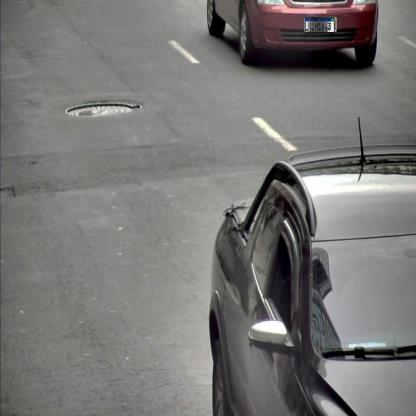PlacaM: (306, 17, 335, 33)
